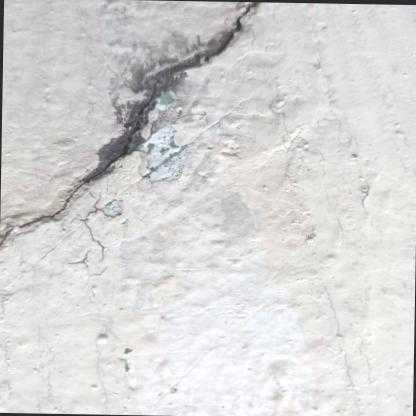crack: (0, 1, 260, 245)
